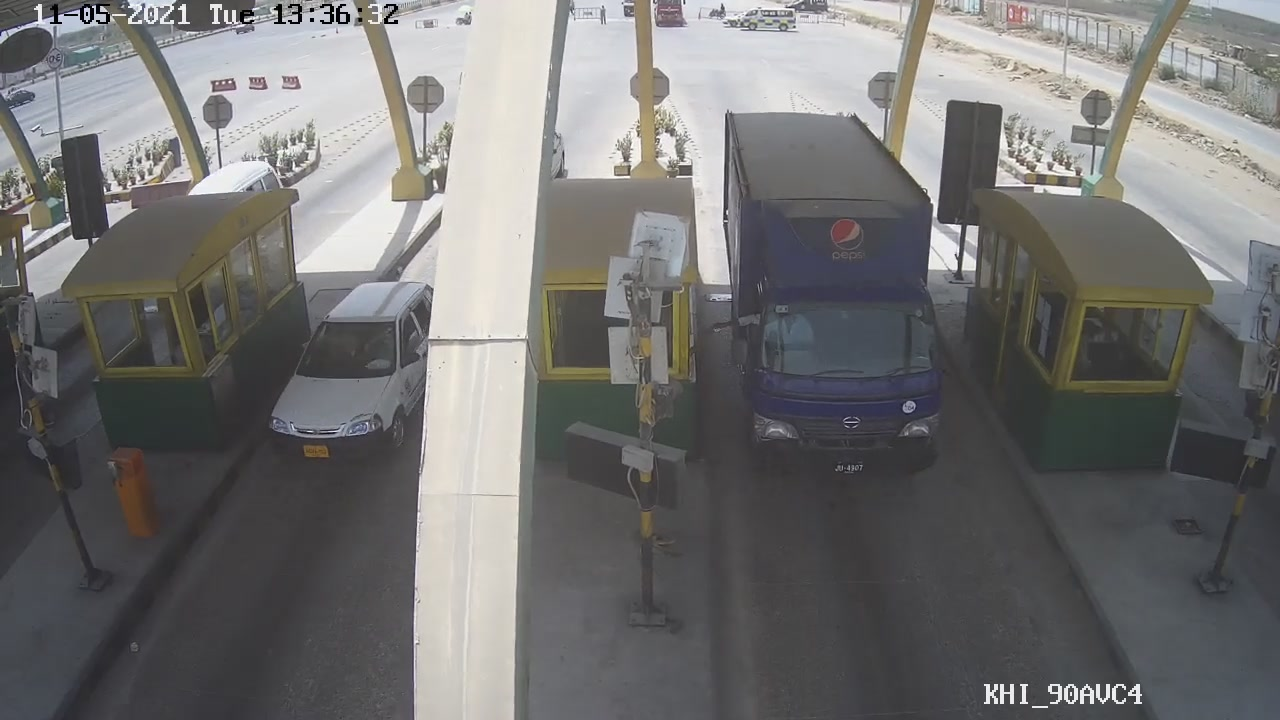F5: (711, 106, 960, 493)
